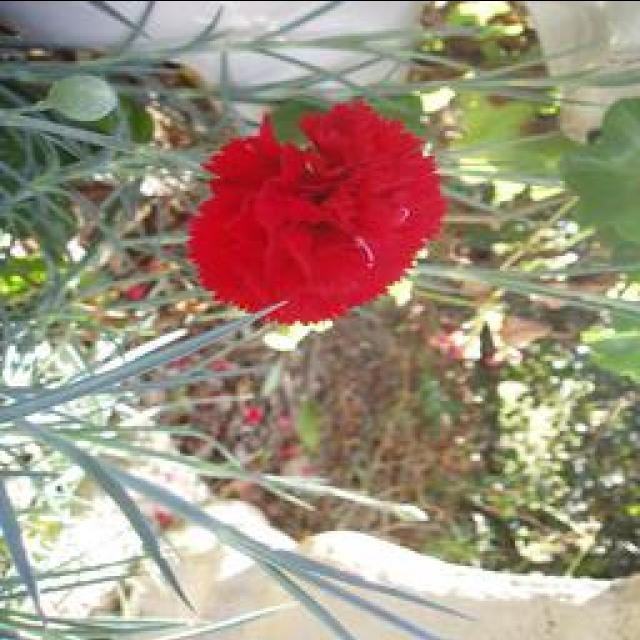carnation: (176, 89, 454, 327)
